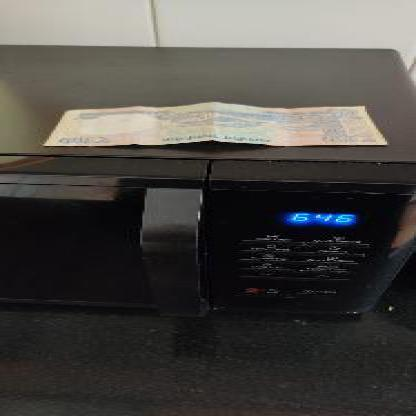Old100Back: (47, 102, 396, 146)
